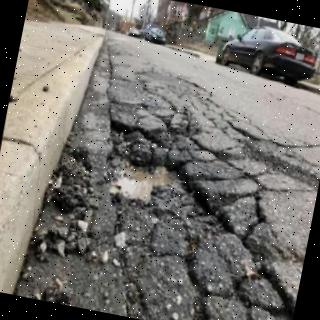pothole: (106, 121, 251, 233)
